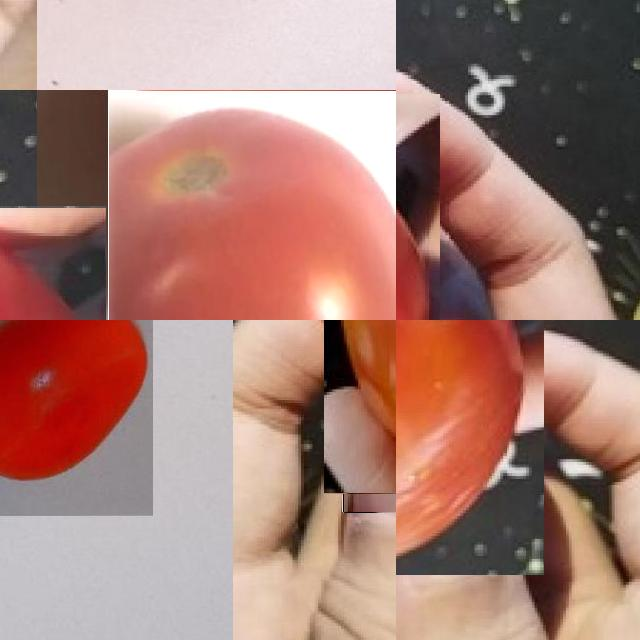0: (108, 90, 396, 320)
Fresh Tomato: (0, 320, 153, 516)
Rotten Tomato: (396, 320, 544, 575)
